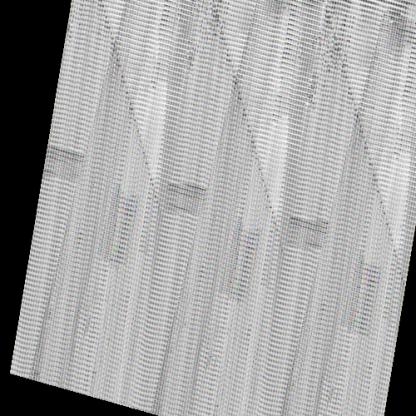Damage: (154, 149, 203, 207)
